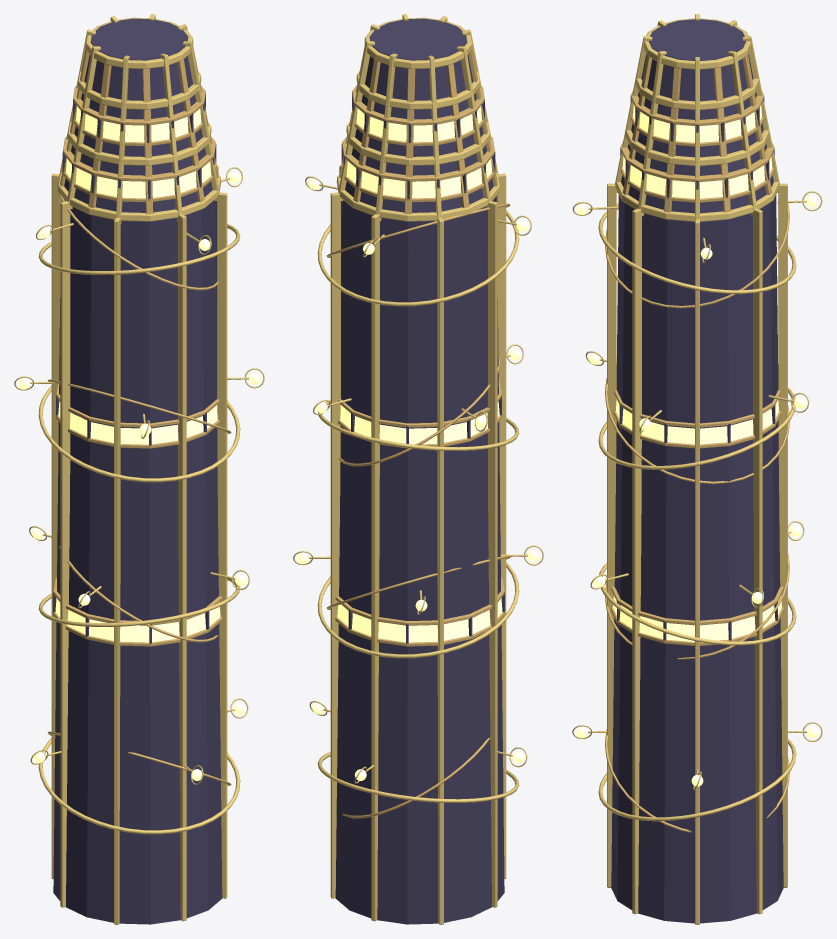
The model's file is w6_crown_core.glb.
The picture shows the model from 3 angles, left to right: view 1: azimuth 30°, elevation 25°; view 2: azimuth 150°, elevation 25°; view 3: azimuth 270°, elevation 25°; orthographic projection.
Visible parts, largest first — view 1: ObsMainShaft, ArmillaryBandA_0, ArmillaryBandB_0, OrreryPlanet_0_0; view 2: ObsMainShaft, ArmillaryBandA_0, ArmillaryBandB_0, OrreryPlanet_0_0; view 3: ObsMainShaft, ArmillaryBandA_0, ArmillaryBandB_0, OrreryPlanet_0_0.
Part boxes in pixels (bbox=[...]): ObsMainShaft: bbox=[53, 18, 222, 924]; ArmillaryBandA_0: bbox=[14, 14, 264, 924]; ArmillaryBandB_0: bbox=[47, 45, 231, 785]; OrreryPlanet_0_0: bbox=[18, 106, 260, 780]; ObsMainShaft: bbox=[335, 18, 504, 924]; ArmillaryBandA_0: bbox=[293, 14, 543, 924]; ArmillaryBandB_0: bbox=[326, 45, 510, 818]; OrreryPlanet_0_0: bbox=[297, 106, 539, 780]; ObsMainShaft: bbox=[611, 19, 783, 923]; ArmillaryBandA_0: bbox=[572, 14, 822, 924]; ArmillaryBandB_0: bbox=[605, 55, 789, 832]; OrreryPlanet_0_0: bbox=[576, 104, 818, 786].
Size of the model in its own units: 43.94 by 165 by 43.94.
